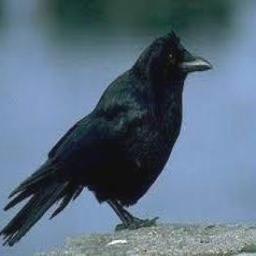Crow: (0, 32, 212, 250)
